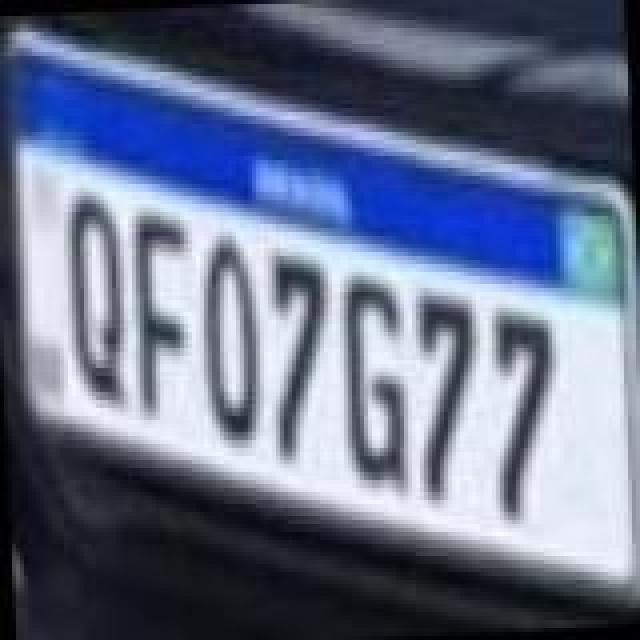7: (486, 298, 570, 518), (410, 282, 486, 502), (262, 254, 338, 466)
F: (128, 206, 200, 418)
G: (338, 268, 414, 500)
O: (196, 230, 268, 442)
Q: (60, 188, 132, 404)
